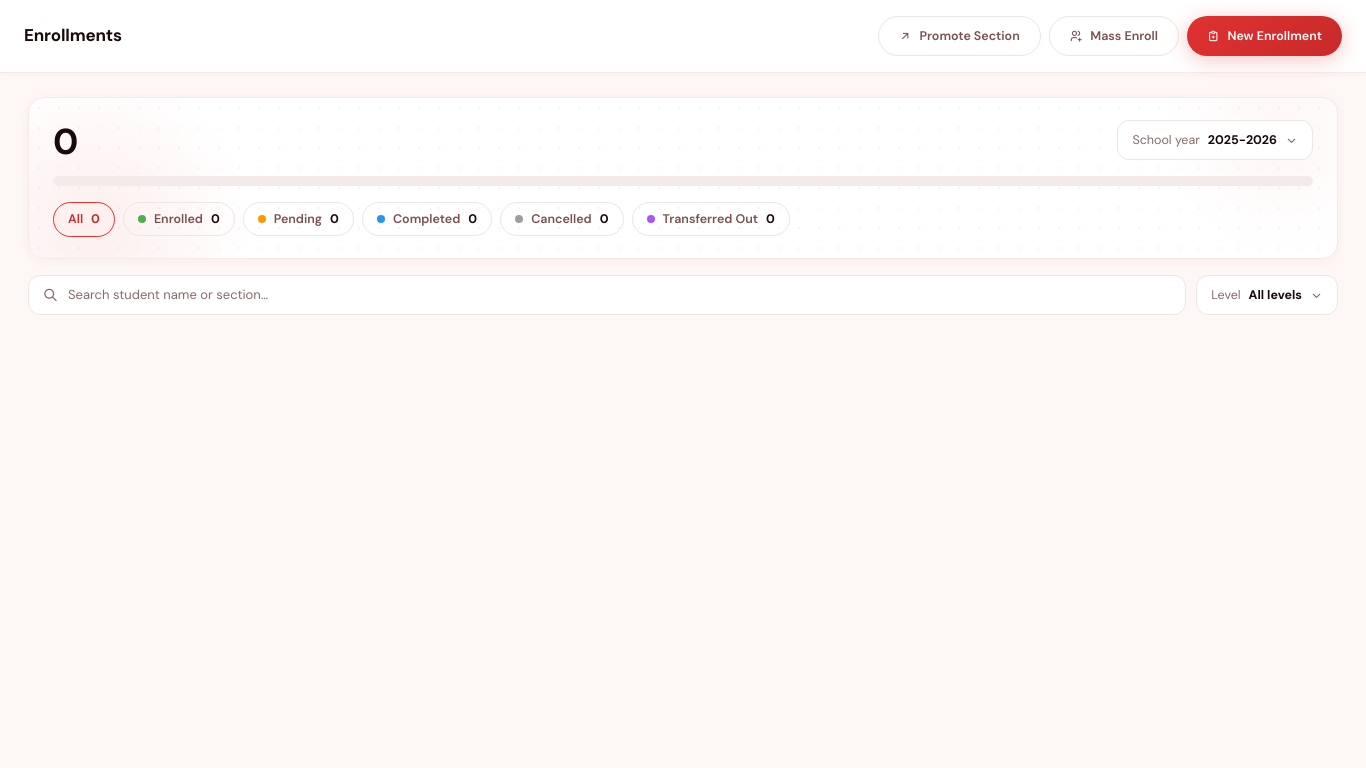
Test: Mass Enroll roster › names every learner in the class, whichever fields the row carries
Click the button "Mass Enroll" at (1114, 36), box [1049,16,1179,56]
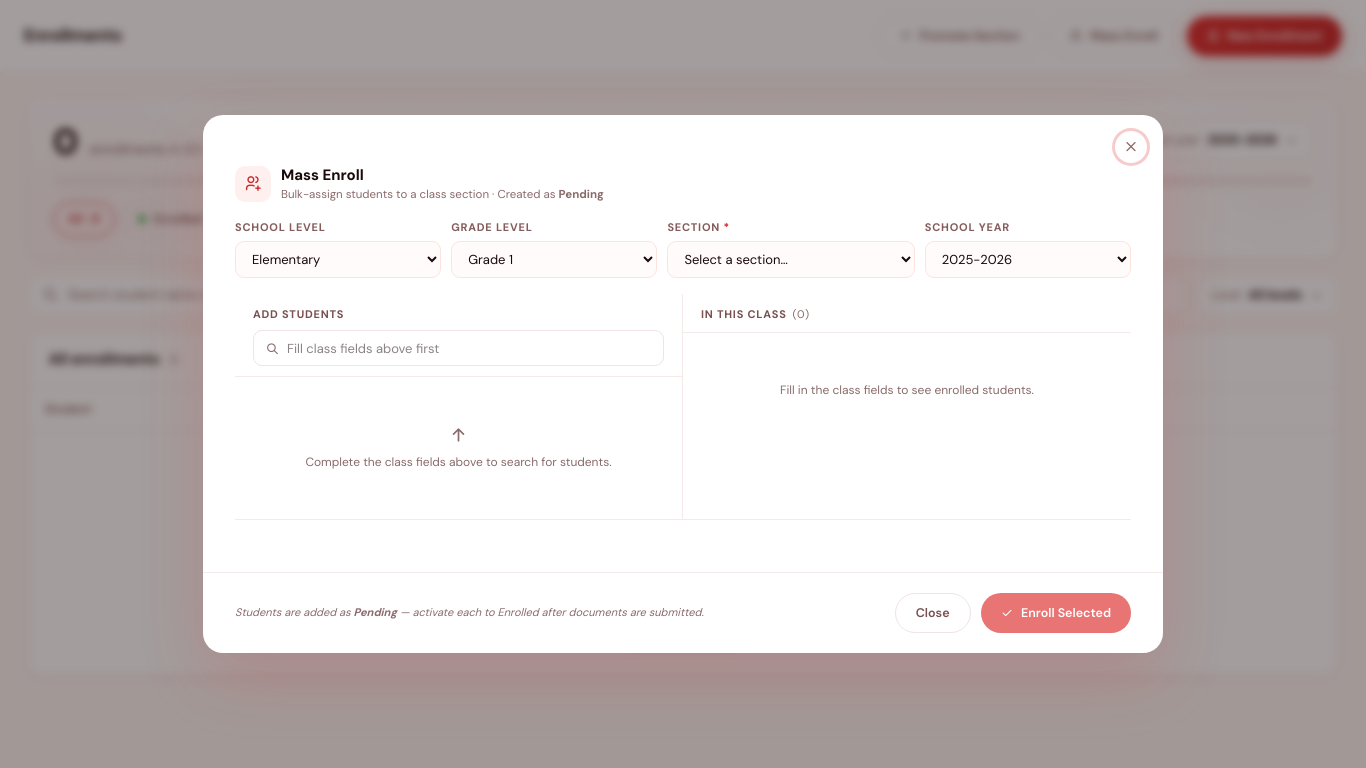
Select "Rizal" in the dropdown named "Section" at (791, 259), box [667,241,915,278]
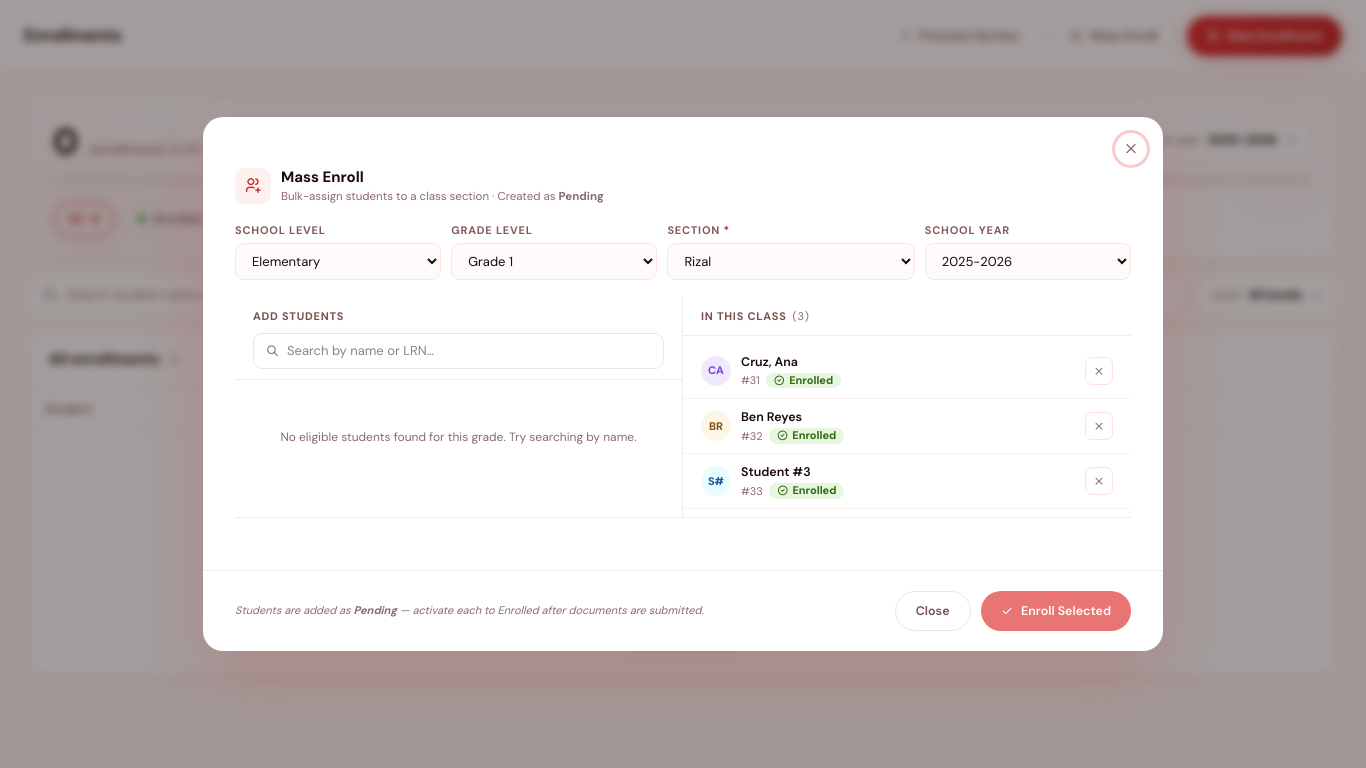
Expected: the text "Cruz, Ana" is shown, [741,354,798,370]
Expected: the text "Ben Reyes" is shown, [741,409,802,425]
Expected: the text "Student #3" is shown, [741,464,811,480]
